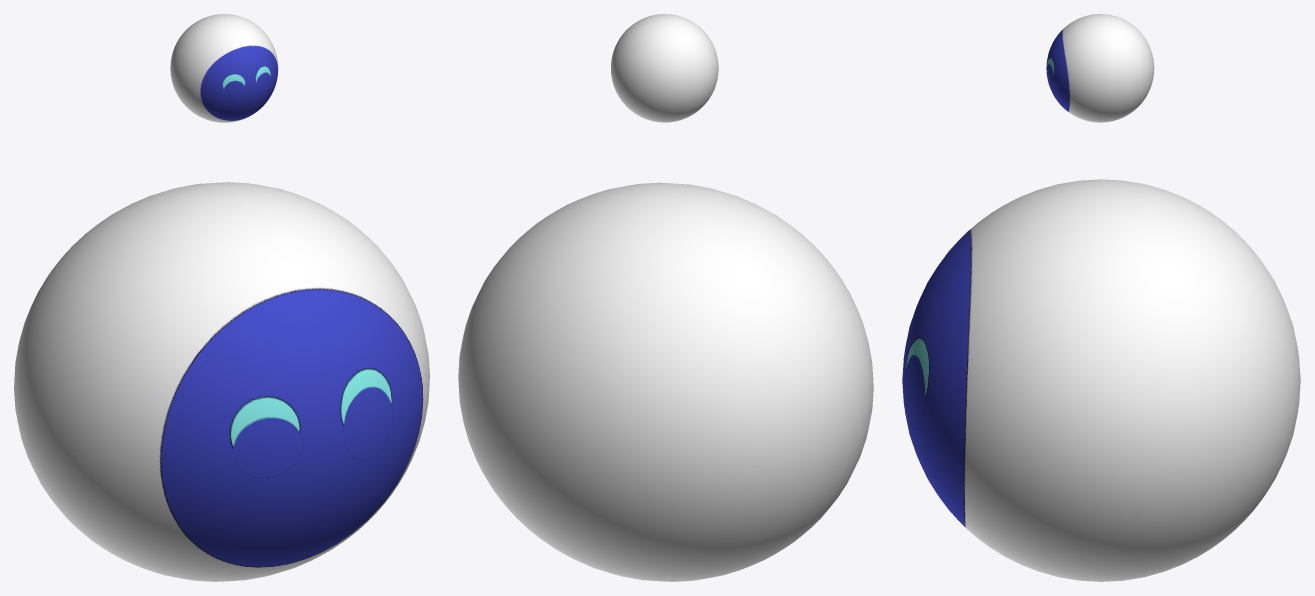
The model's file is robo.glb.
The picture shows the model from 3 angles, left to right: view 1: azimuth 30°, elevation 25°; view 2: azimuth 150°, elevation 25°; view 3: azimuth 270°, elevation 25°; orthographic projection.
Visible parts, largest first — view 1: mesh_id128, mesh_id98; view 2: mesh_id128, mesh_id98; view 3: mesh_id128, mesh_id98.
Part boxes in pixels (box(x1,y1,x2,y2)): mesh_id128: box(14, 182, 429, 581); mesh_id98: box(170, 14, 278, 122); mesh_id128: box(458, 182, 873, 581); mesh_id98: box(611, 14, 718, 122); mesh_id128: box(902, 179, 1300, 581); mesh_id98: box(1046, 14, 1154, 122).
Size of the model in its own units: 3.3 by 4.7 by 3.12.
2 materials, 2 textured.
